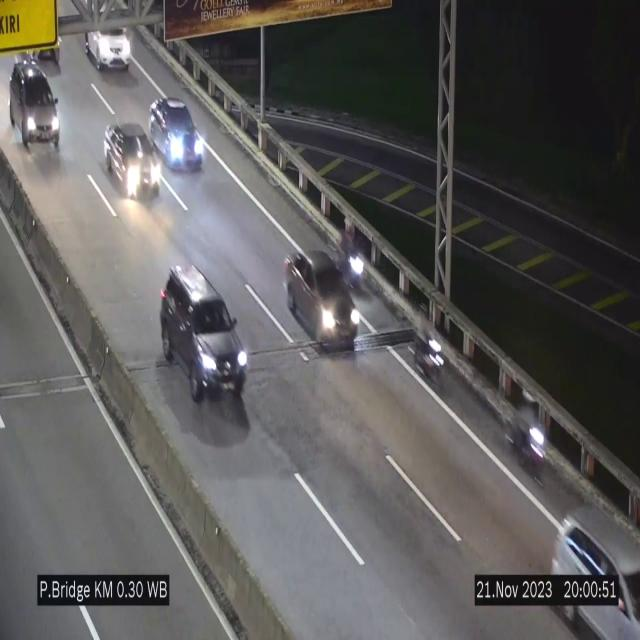Car: (542, 485, 640, 640), (160, 266, 248, 412), (285, 250, 361, 364), (8, 57, 61, 155), (101, 121, 161, 203), (150, 99, 206, 168), (86, 9, 134, 73)
Motorcycle: (507, 385, 542, 486), (415, 305, 450, 401), (336, 212, 371, 290)
